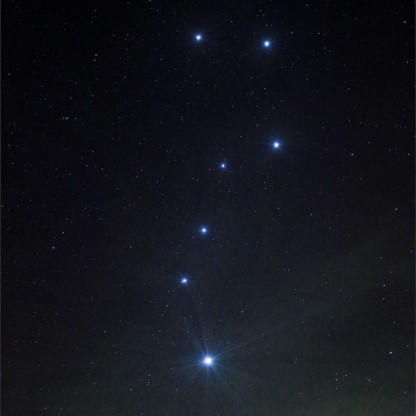Ursa Major: (191, 338, 228, 381), (212, 151, 244, 184), (182, 24, 210, 47), (171, 268, 194, 290), (194, 220, 215, 242), (263, 133, 285, 153), (259, 39, 274, 55)
